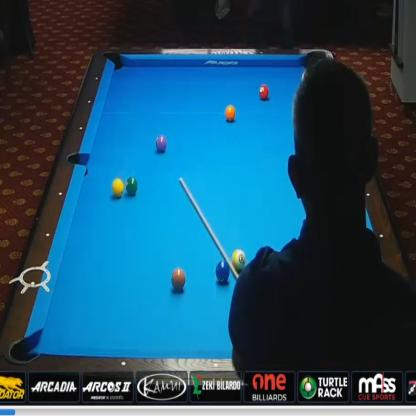Ball: (215, 260, 230, 284), (171, 268, 186, 291), (232, 249, 246, 270), (111, 178, 124, 198), (125, 176, 138, 195), (156, 135, 168, 152), (225, 105, 236, 122), (259, 84, 269, 100)
